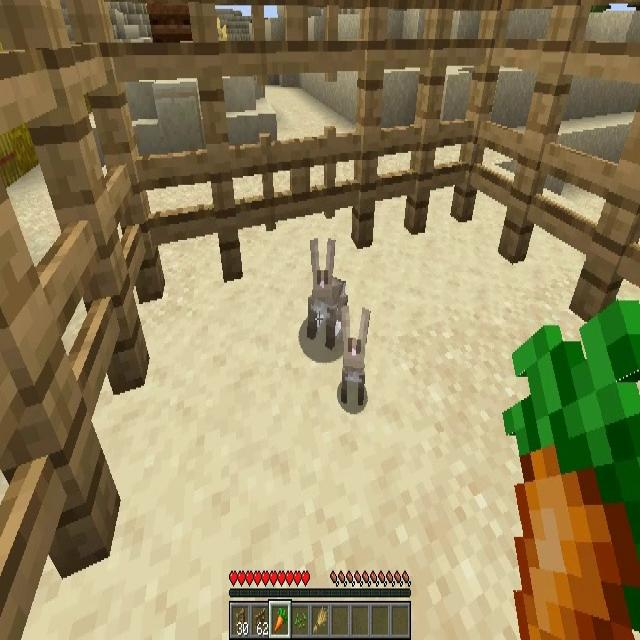rabbit: (306, 242, 347, 348), (340, 310, 368, 400)
